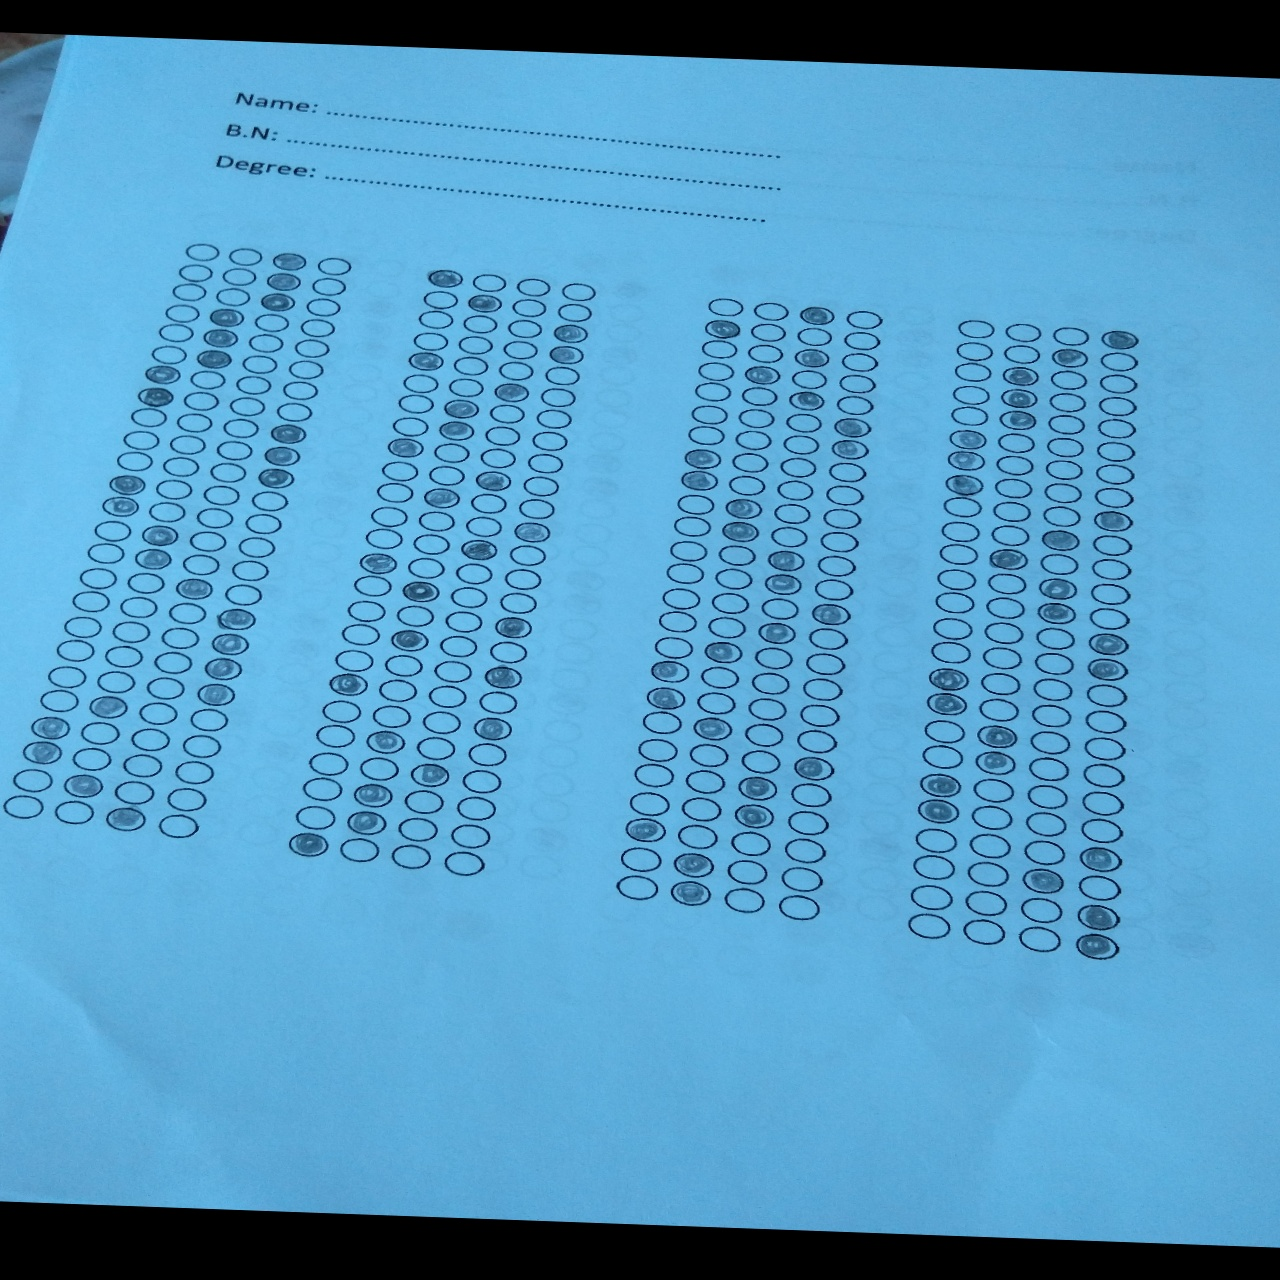not-c: (779, 864, 826, 893), (960, 917, 1007, 946), (720, 886, 768, 914), (1017, 896, 1065, 924), (782, 836, 828, 865), (614, 874, 661, 903), (727, 829, 774, 857), (908, 884, 955, 912), (401, 788, 445, 817), (155, 812, 200, 840), (394, 816, 440, 844), (458, 769, 504, 797), (775, 893, 821, 921), (723, 859, 769, 887), (967, 832, 1013, 860), (913, 826, 959, 855), (911, 853, 956, 881), (964, 888, 1009, 917), (965, 860, 1010, 888), (1076, 874, 1122, 903), (789, 781, 832, 810), (798, 701, 842, 730), (292, 804, 336, 832), (336, 836, 381, 864), (299, 776, 343, 804), (464, 741, 509, 769), (313, 722, 358, 750), (318, 697, 362, 726), (632, 761, 676, 789), (628, 789, 673, 817), (679, 795, 723, 823), (794, 727, 838, 755), (1022, 838, 1067, 866), (906, 912, 951, 940), (1017, 925, 1062, 953), (454, 795, 499, 822), (978, 670, 1023, 697), (1080, 789, 1125, 816), (369, 702, 413, 730), (785, 809, 829, 837), (694, 689, 737, 717), (676, 823, 720, 851), (619, 846, 662, 874), (52, 799, 96, 826), (1, 794, 46, 821), (11, 767, 55, 794), (389, 843, 434, 870), (442, 849, 486, 876), (449, 823, 493, 850), (414, 735, 458, 762), (306, 750, 350, 777), (418, 709, 463, 736), (476, 689, 520, 716), (499, 565, 544, 592), (1026, 755, 1070, 782), (392, 602, 437, 628), (350, 573, 396, 599), (971, 777, 1016, 803), (129, 726, 172, 753), (121, 753, 164, 779), (113, 779, 156, 806), (356, 756, 400, 783), (425, 683, 469, 710), (403, 554, 447, 581), (749, 669, 792, 696), (697, 665, 741, 692), (1084, 682, 1128, 709), (1030, 702, 1074, 729), (1082, 736, 1125, 763), (332, 647, 376, 673), (339, 622, 383, 648), (345, 598, 389, 624), (495, 591, 539, 617), (817, 529, 862, 554), (799, 676, 844, 702), (920, 744, 965, 770), (1028, 729, 1073, 755), (1081, 762, 1125, 788), (1023, 811, 1068, 837), (72, 745, 114, 772), (683, 768, 726, 795), (375, 678, 418, 703), (431, 659, 475, 685), (437, 634, 481, 660), (486, 639, 530, 665), (450, 560, 493, 586), (708, 591, 751, 617), (804, 651, 847, 676), (745, 696, 789, 722), (742, 722, 785, 748), (687, 741, 730, 767), (932, 590, 975, 615), (1032, 676, 1075, 702), (978, 697, 1021, 723), (922, 719, 966, 744), (1027, 783, 1070, 809), (971, 804, 1014, 830), (1080, 818, 1123, 844), (441, 610, 485, 634), (447, 585, 491, 610), (137, 700, 179, 726), (79, 720, 121, 745), (181, 734, 223, 760), (173, 760, 216, 785), (166, 787, 209, 812), (414, 509, 456, 535), (389, 414, 431, 440), (812, 577, 855, 602), (715, 543, 757, 568), (738, 748, 781, 774), (1033, 651, 1075, 676), (1085, 708, 1128, 734), (381, 653, 424, 678), (813, 553, 857, 578), (663, 561, 707, 586), (757, 595, 801, 620), (652, 635, 695, 660), (640, 710, 683, 735), (188, 529, 229, 554), (86, 542, 127, 567), (125, 570, 166, 595), (70, 588, 111, 614), (158, 625, 199, 651), (54, 636, 95, 662), (103, 644, 144, 669), (712, 567, 756, 591), (229, 558, 271, 583), (222, 583, 264, 607), (519, 474, 561, 498), (374, 481, 416, 505), (431, 441, 474, 465), (523, 451, 565, 476), (481, 423, 523, 448), (394, 392, 436, 416), (826, 459, 869, 484), (656, 610, 699, 634), (806, 626, 849, 651), (753, 646, 795, 670), (939, 519, 981, 544), (989, 523, 1032, 547), (937, 542, 979, 566), (1089, 581, 1131, 606), (985, 595, 1027, 620), (931, 617, 973, 641), (930, 640, 972, 665), (981, 646, 1023, 670), (660, 587, 703, 611), (703, 617, 747, 640), (234, 535, 275, 559), (181, 552, 222, 577), (77, 565, 118, 590), (117, 595, 158, 620), (61, 614, 102, 639), (46, 665, 87, 689), (1044, 435, 1085, 459), (983, 620, 1024, 645), (166, 433, 209, 456), (120, 429, 162, 452), (114, 450, 156, 474), (363, 527, 406, 551), (462, 515, 504, 538), (515, 497, 557, 520), (379, 459, 421, 483), (476, 445, 518, 469), (527, 430, 570, 454), (399, 372, 441, 395), (485, 402, 527, 425), (468, 271, 510, 294), (508, 295, 550, 319), (745, 320, 788, 343), (839, 350, 881, 374), (822, 484, 864, 508), (668, 539, 710, 563), (636, 738, 679, 762), (1096, 372, 1138, 395), (935, 568, 978, 592), (986, 572, 1028, 595), (1090, 558, 1132, 581), (1089, 607, 1131, 631), (1034, 627, 1076, 651), (154, 651, 193, 675), (200, 483, 241, 506), (91, 519, 132, 543), (166, 600, 207, 624), (110, 620, 151, 644), (95, 670, 136, 694), (38, 689, 79, 713), (188, 708, 229, 731), (467, 491, 508, 515), (425, 464, 467, 488), (449, 354, 490, 377), (503, 316, 544, 340), (836, 373, 877, 396), (779, 433, 821, 456), (726, 474, 767, 497), (771, 502, 812, 525), (956, 318, 998, 341), (1097, 395, 1138, 418), (1094, 463, 1135, 486), (1039, 553, 1080, 577), (1091, 533, 1132, 557), (508, 543, 546, 567), (145, 501, 188, 523), (367, 506, 409, 529), (443, 376, 485, 399), (532, 407, 574, 429), (536, 386, 578, 408), (495, 360, 537, 382), (409, 331, 451, 353), (454, 334, 496, 356), (415, 308, 457, 331), (512, 275, 554, 298), (749, 300, 791, 322), (844, 308, 886, 331), (792, 325, 835, 347), (697, 338, 740, 360), (694, 360, 736, 382), (737, 384, 779, 407), (788, 368, 830, 390), (674, 493, 716, 516), (765, 526, 808, 549), (951, 360, 993, 382), (1098, 350, 1141, 373), (1096, 417, 1138, 440), (1042, 459, 1084, 482), (1043, 482, 1085, 504), (1092, 486, 1135, 509), (1094, 441, 1136, 463), (145, 676, 185, 700), (1051, 324, 1091, 347), (993, 477, 1033, 501), (215, 440, 256, 462), (159, 455, 200, 477), (205, 461, 246, 483), (154, 478, 195, 501), (241, 512, 282, 535), (540, 365, 581, 387), (499, 339, 540, 361), (459, 313, 501, 335), (553, 301, 594, 324), (704, 297, 745, 319), (842, 329, 883, 352), (745, 342, 787, 365), (692, 381, 733, 403), (783, 411, 824, 434), (731, 429, 772, 451), (778, 456, 819, 478), (729, 451, 770, 474), (822, 508, 863, 530), (670, 516, 712, 538), (955, 340, 996, 362), (1048, 369, 1089, 392), (994, 454, 1035, 476), (941, 495, 982, 517), (992, 501, 1033, 523), (1041, 505, 1082, 527), (418, 290, 461, 311), (774, 479, 816, 501), (1001, 343, 1043, 365), (995, 431, 1037, 452), (304, 297, 343, 319), (250, 490, 290, 512), (835, 395, 874, 417), (736, 407, 776, 429), (688, 403, 728, 425), (686, 423, 726, 445), (1002, 321, 1042, 343), (1046, 413, 1085, 435), (281, 379, 319, 402), (240, 353, 278, 376), (951, 384, 992, 406), (948, 406, 989, 427), (1047, 392, 1088, 413), (225, 246, 264, 268), (213, 286, 252, 308), (251, 312, 290, 334), (162, 302, 200, 325), (222, 417, 260, 440), (411, 532, 450, 554), (195, 506, 234, 527), (558, 281, 598, 302), (299, 316, 336, 339), (275, 401, 313, 423), (229, 396, 266, 418), (234, 374, 272, 396), (130, 406, 168, 428), (183, 241, 222, 263), (315, 256, 354, 277), (309, 275, 348, 297), (219, 266, 258, 287), (156, 322, 195, 343), (149, 343, 188, 365), (188, 369, 226, 390), (182, 390, 220, 411), (176, 411, 215, 433), (247, 332, 284, 354), (177, 263, 215, 284), (170, 281, 207, 302), (293, 338, 331, 359), (287, 359, 324, 380)
taken-c: (1074, 932, 1123, 962), (1019, 865, 1068, 896), (1074, 903, 1124, 932), (1075, 845, 1125, 874), (914, 796, 964, 825), (920, 689, 971, 717), (971, 722, 1021, 749), (1082, 655, 1132, 682), (915, 771, 964, 799), (971, 750, 1020, 777), (922, 665, 972, 692), (481, 663, 527, 692), (325, 670, 370, 699), (944, 425, 990, 452), (670, 850, 715, 878), (667, 879, 712, 907), (1032, 601, 1080, 627), (19, 738, 64, 765), (60, 772, 105, 799), (407, 761, 452, 788), (362, 729, 408, 756), (386, 627, 431, 654), (1085, 631, 1131, 658), (942, 447, 988, 474), (731, 802, 775, 830), (940, 474, 987, 499), (102, 806, 147, 833), (343, 809, 388, 836), (350, 783, 395, 810), (490, 615, 535, 642), (1037, 527, 1082, 554), (400, 580, 445, 606), (1034, 577, 1080, 602), (1090, 509, 1136, 535), (736, 775, 779, 802), (622, 817, 666, 844), (985, 546, 1032, 571), (1046, 346, 1092, 370), (286, 831, 331, 857), (470, 717, 515, 743), (810, 601, 855, 627), (217, 606, 259, 633), (700, 639, 745, 663), (998, 365, 1043, 389), (510, 520, 553, 546), (648, 659, 692, 685), (644, 685, 687, 710), (755, 621, 799, 646), (692, 716, 736, 741), (791, 756, 836, 781), (996, 386, 1041, 410), (209, 632, 251, 658), (418, 485, 462, 510), (470, 469, 513, 493), (193, 681, 234, 707), (994, 409, 1039, 433), (1098, 329, 1143, 353), (86, 694, 128, 719), (29, 716, 72, 741), (356, 552, 399, 577), (458, 537, 501, 561), (383, 435, 425, 459), (490, 381, 532, 406), (100, 495, 141, 519), (173, 577, 215, 601), (204, 656, 245, 681), (436, 418, 477, 443), (467, 291, 508, 315), (268, 248, 309, 272), (200, 327, 241, 350), (138, 524, 179, 547), (440, 397, 481, 421), (546, 343, 587, 367), (796, 304, 837, 327), (702, 316, 743, 340), (792, 346, 833, 369), (741, 363, 782, 387), (683, 448, 724, 471), (678, 470, 719, 493), (721, 497, 762, 520), (719, 520, 760, 544), (765, 549, 806, 572), (762, 572, 803, 595), (263, 270, 302, 293), (256, 467, 295, 490), (406, 350, 445, 374), (257, 290, 298, 312), (206, 306, 247, 328), (266, 423, 307, 445), (107, 474, 148, 496), (551, 324, 592, 346), (424, 267, 465, 290), (785, 390, 826, 413), (833, 417, 874, 440), (829, 438, 870, 461), (136, 384, 175, 408), (263, 445, 302, 468), (132, 547, 172, 570), (195, 348, 233, 370), (142, 363, 181, 386)
